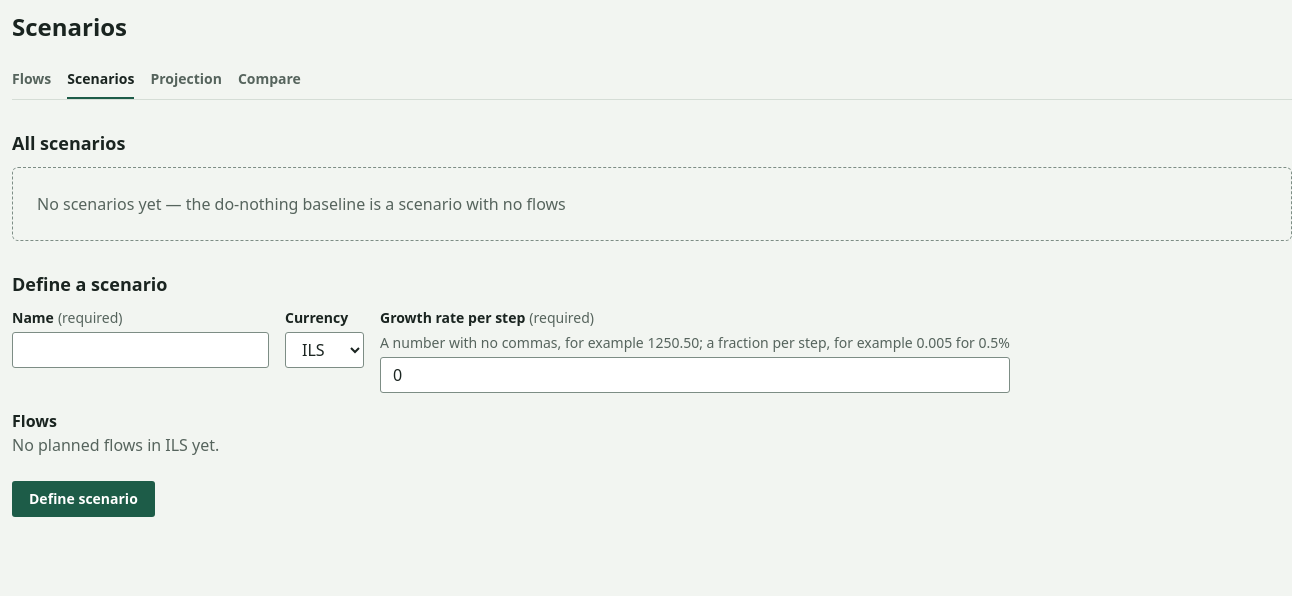
ScenariosPage define-scenario form › Given_an_unknown_plan_422_When_defined_Then_the_server_detail_is_shown
Expected: the heading "Define a scenario" is shown, [12, 272, 168, 296]
Step 1. Type "Aggressive saving" into the field labelled "Name" → (140, 350), box [12, 332, 269, 368]
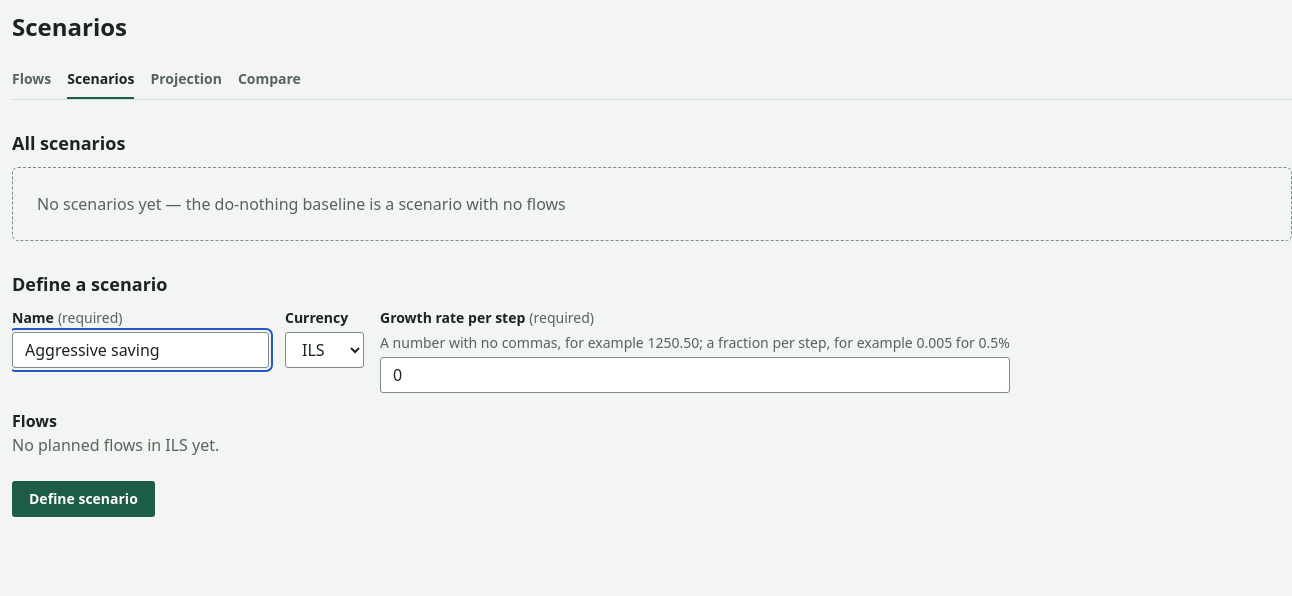
Step 2. Click the button "Define scenario" → (83, 499), box [12, 481, 155, 517]
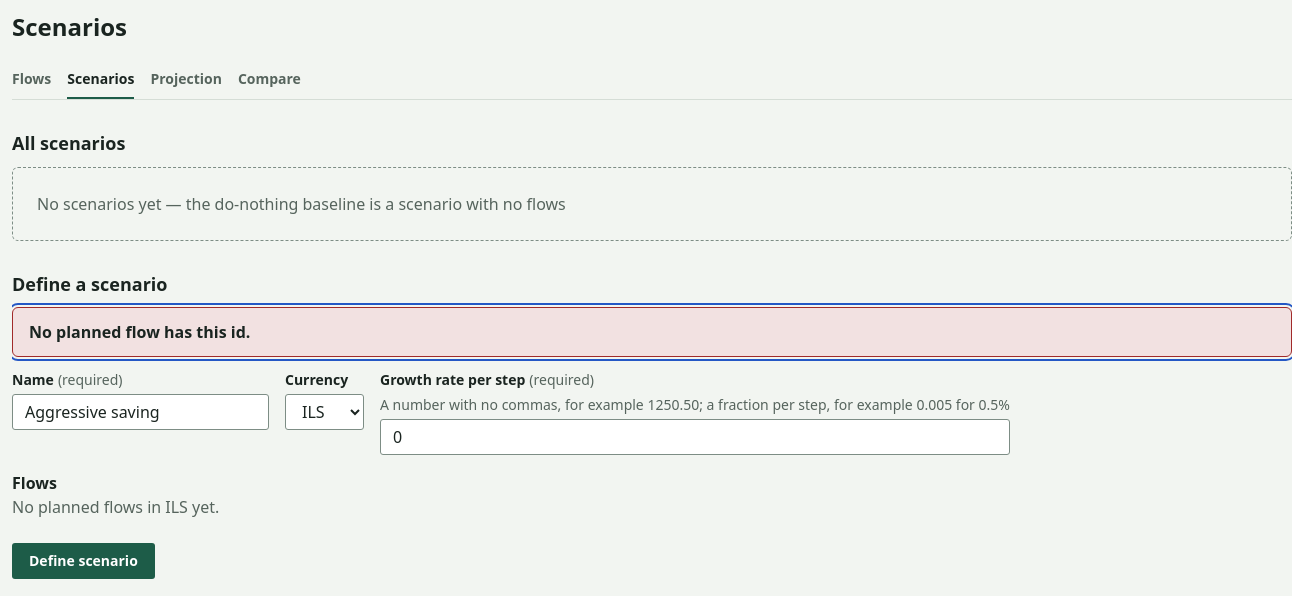
Result: the text "No planned flow has this id." is shown at [29, 321, 250, 343]
